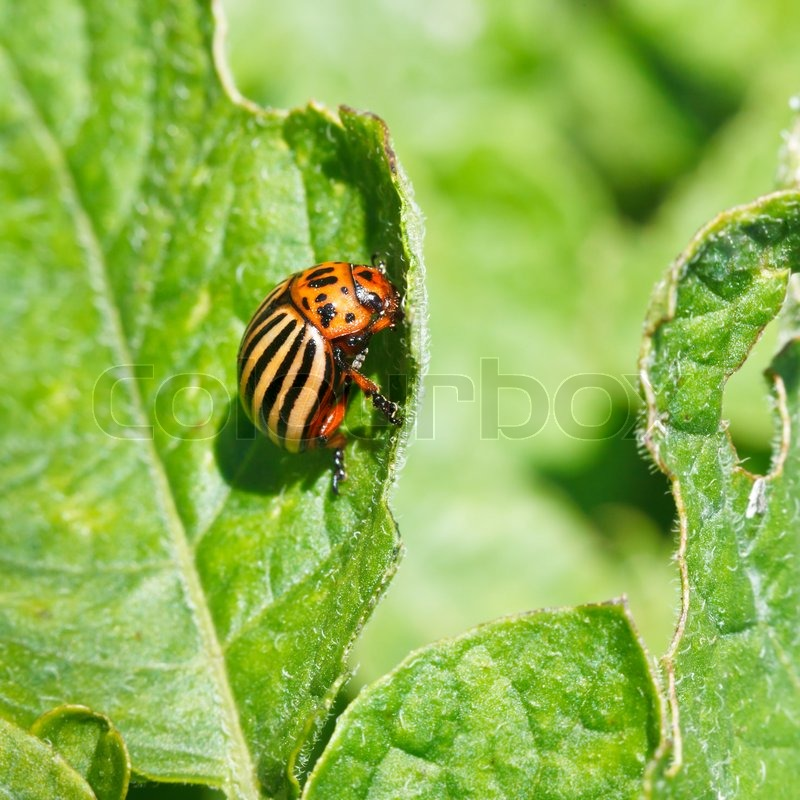hrosc: (231, 259, 407, 486)
